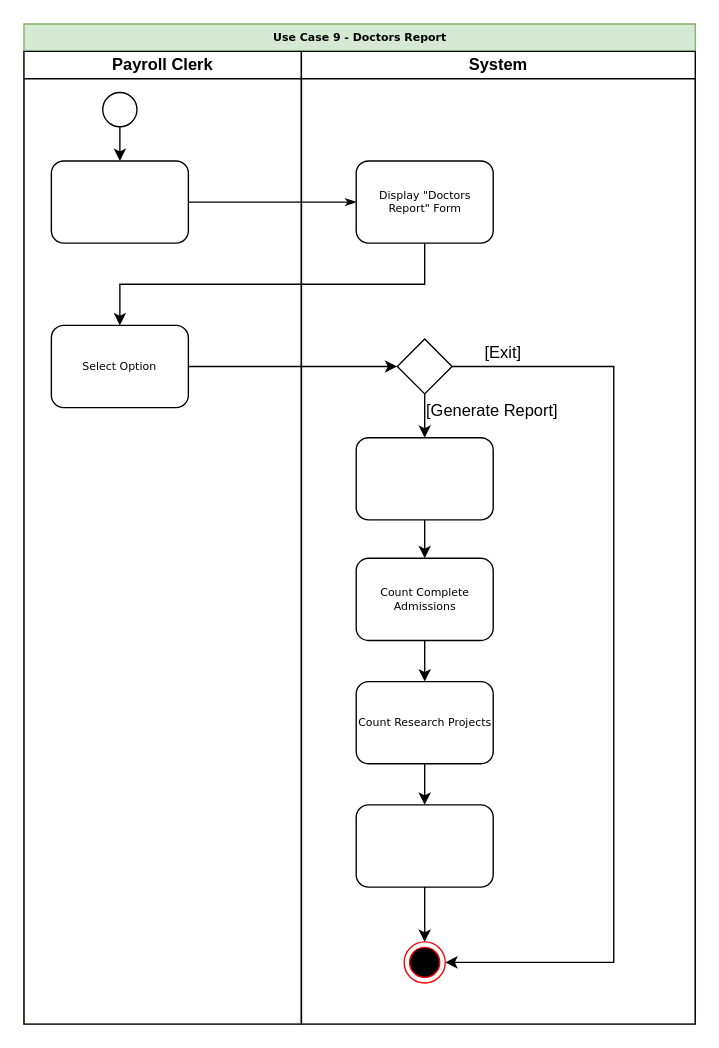
Some shapes in this 719 by 1048 pixel diagram are drawn without their labels. The centre of each missing label's shape, as x and y in pixels:
Display Doctors Report: pixel 424 845
Get Doctor Details: pixel 424 478
Select "Doctors Report" Form: pixel 119 201
